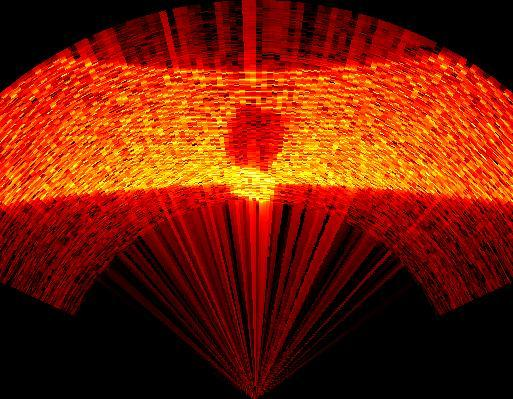box_crate: (224, 102, 288, 170)
